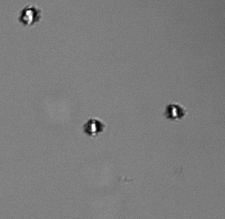Living Cell: (18, 4, 43, 26), (82, 116, 106, 137), (164, 101, 186, 122)
